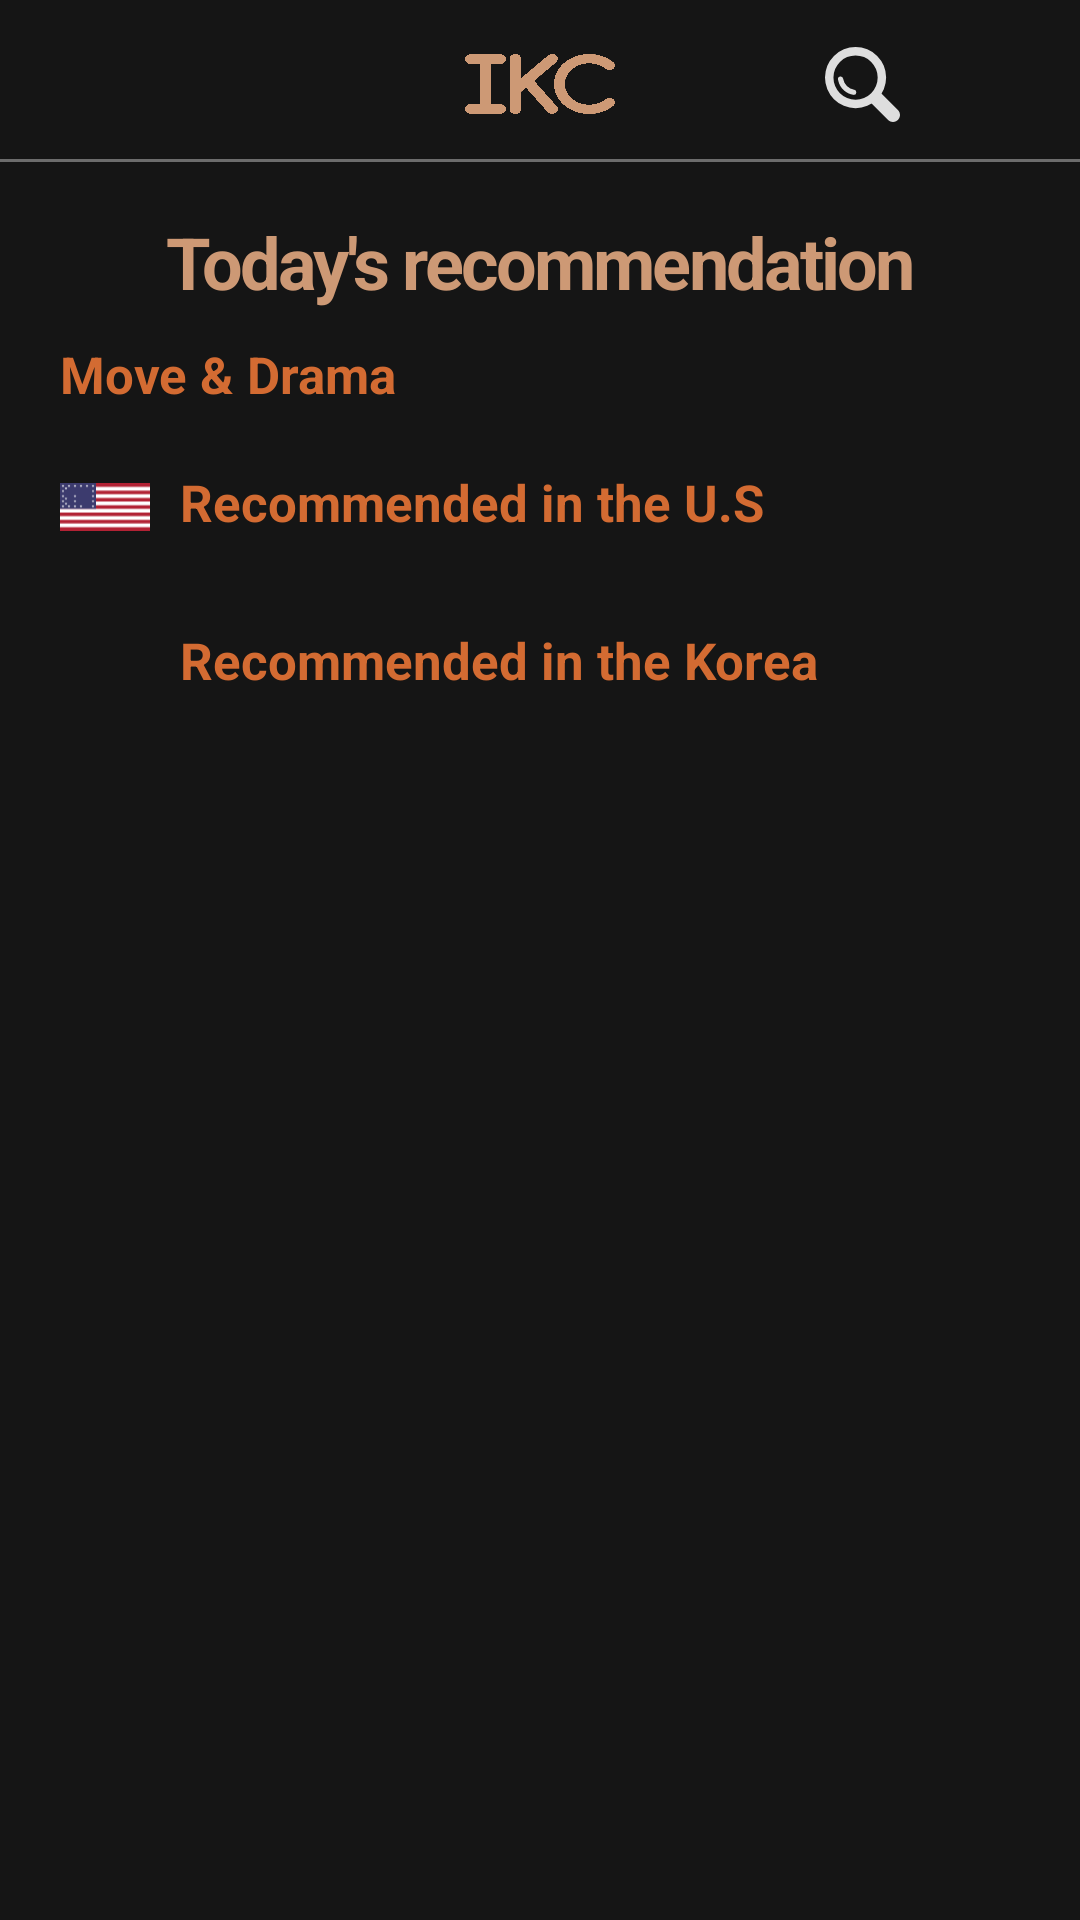

Point at icon controls on the screen. Image size 1080*1920, points as (x,y).
search: (862,84)
